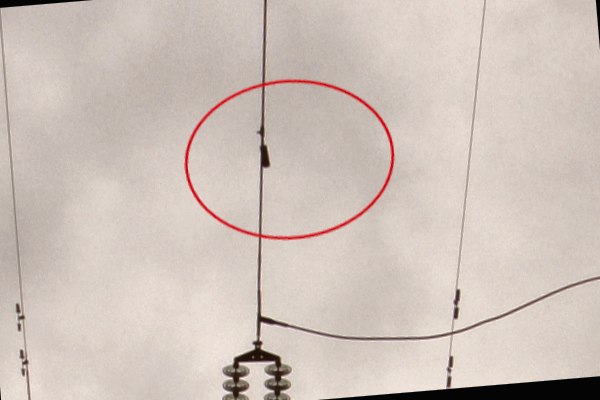damper: (451, 287, 462, 322), (14, 300, 26, 332), (18, 348, 31, 377), (444, 353, 454, 389)
damper_defect: (254, 121, 272, 171)
